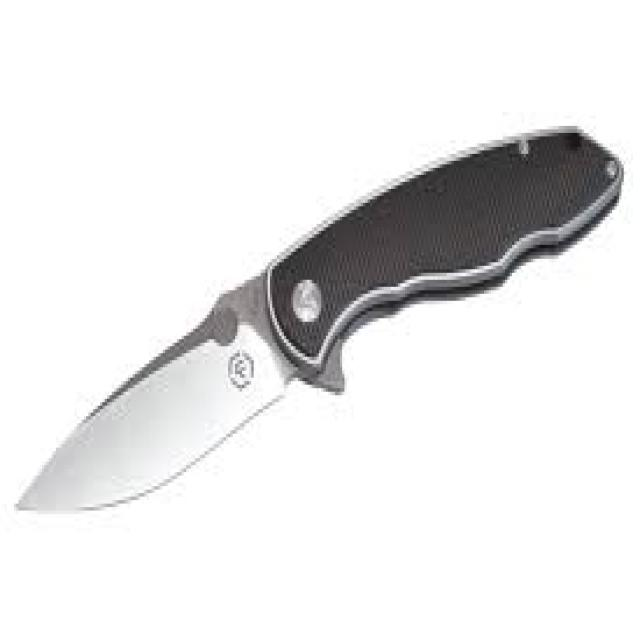knives: (12, 112, 626, 521)
